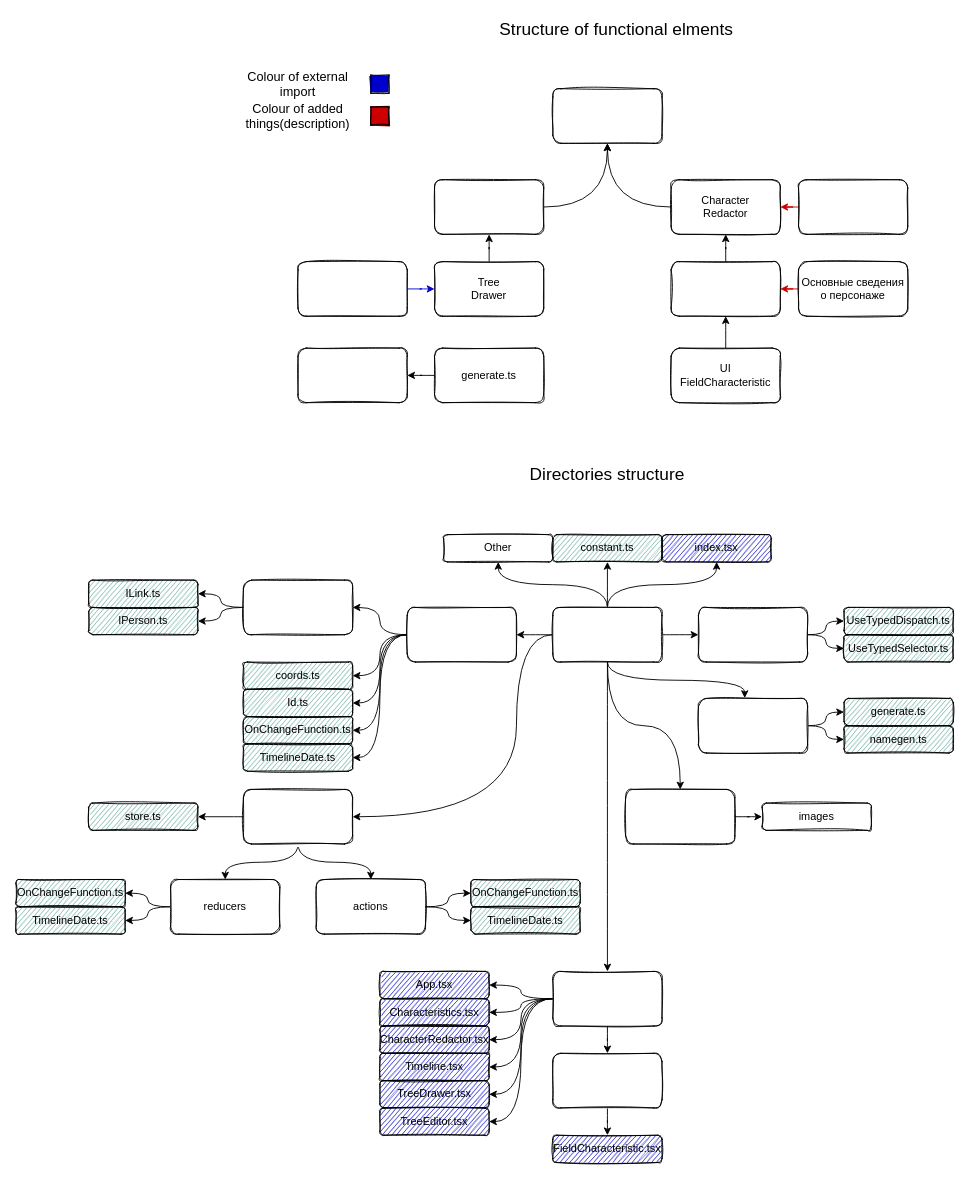
Image size: 969x1178. Some labels were removed from this diagram. Each missing label, with the centre of its shape:
App: the point at 607,115
Characteristics: the point at 725,288
components: the point at 607,998
generator: the point at 753,725
Graph: the point at 352,288
hooks: the point at 753,634
interfaces: the point at 298,607
media: the point at 680,816
Names Generator: the point at 352,375
src: the point at 607,634
storage: the point at 298,816
Tree Editor: the point at 489,206
types: the point at 461,634
ui: the point at 607,1080
Дополнительные Записи об истории персонажа: the point at 853,206
